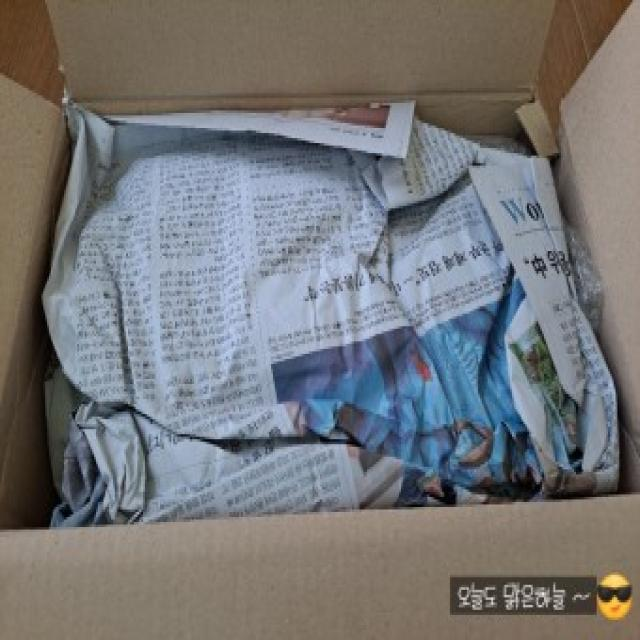Newspaper: (40, 97, 620, 523)
